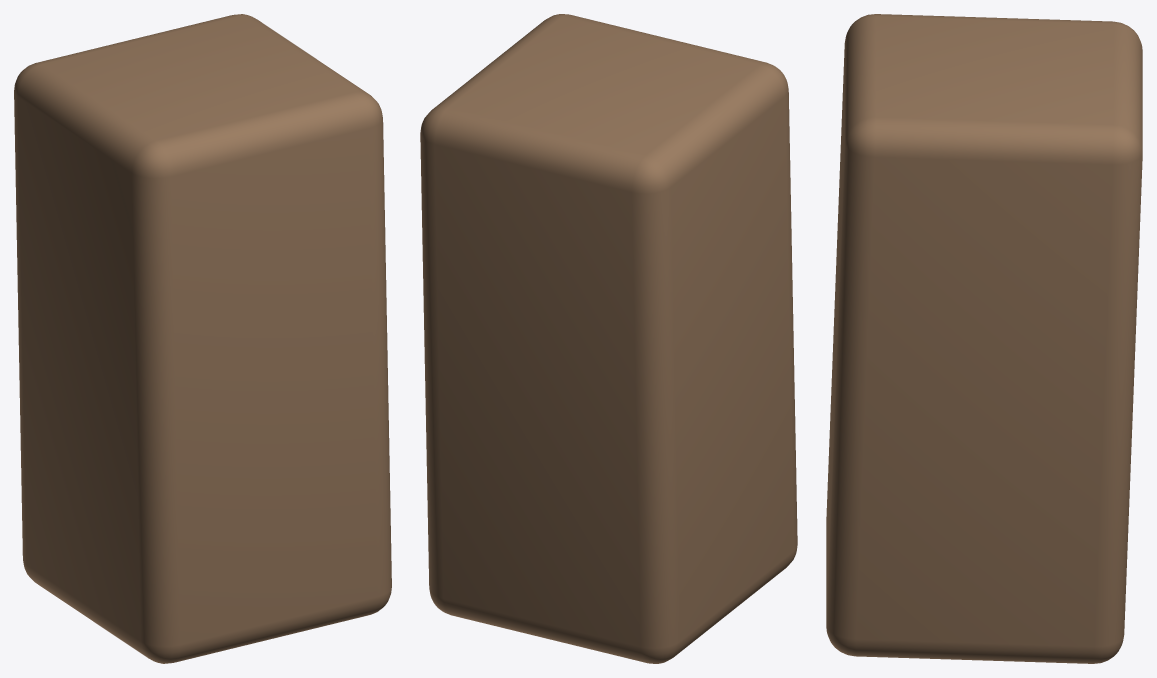
The picture shows the model from 3 angles, left to right: view 1: azimuth 30°, elevation 25°; view 2: azimuth 150°, elevation 25°; view 3: azimuth 270°, elevation 25°; orthographic projection. The views are drawn at different scales.
Visible parts, largest first — view 1: block; view 2: block; view 3: block.
Boxes of the visible parts, x1,y1,x2,y2 form: block: (14,14,391,663); block: (420,14,797,663); block: (826,14,1142,663).
Bounding box in the file's own units: 0.0495 × 0.0996 × 0.0526.
